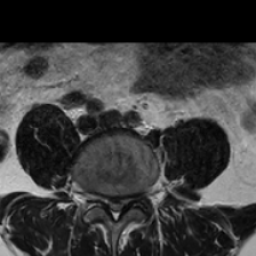CCS_severe_stenosis: (110, 190, 119, 227)
LFS_severe_stenosis: (129, 184, 140, 211)
LLS_severe_stenosis: (119, 190, 129, 218)
RFS_stenosis: (90, 183, 102, 209)
RLS_severe_stenosis: (102, 190, 110, 214)
